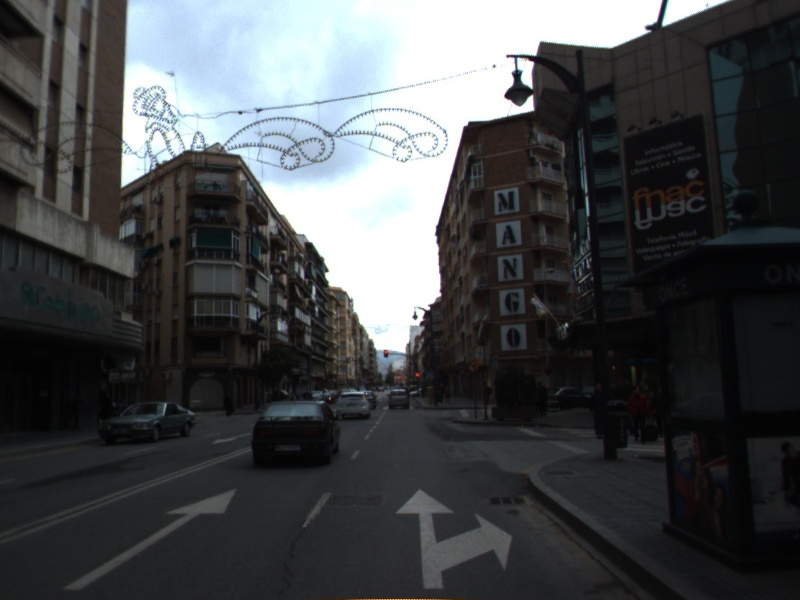STRAIGHT: (59, 486, 239, 592)
STRAIGHT_RIGHT: (394, 487, 514, 591)
